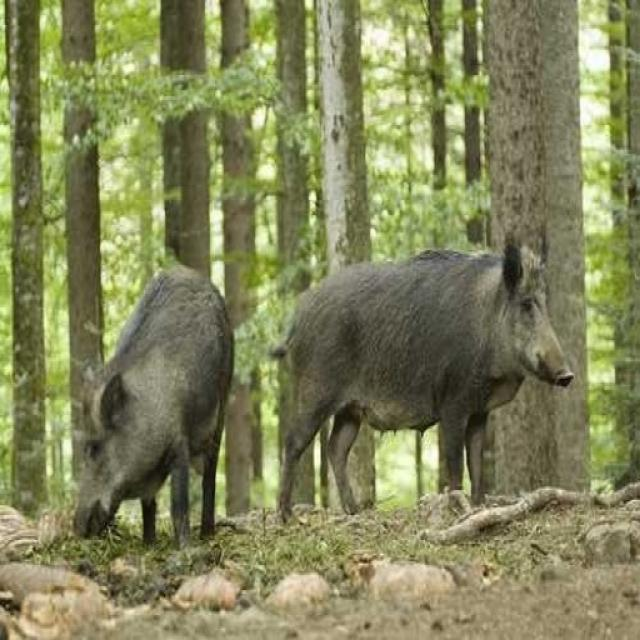pig: (251, 250, 640, 590), (34, 234, 288, 541)
